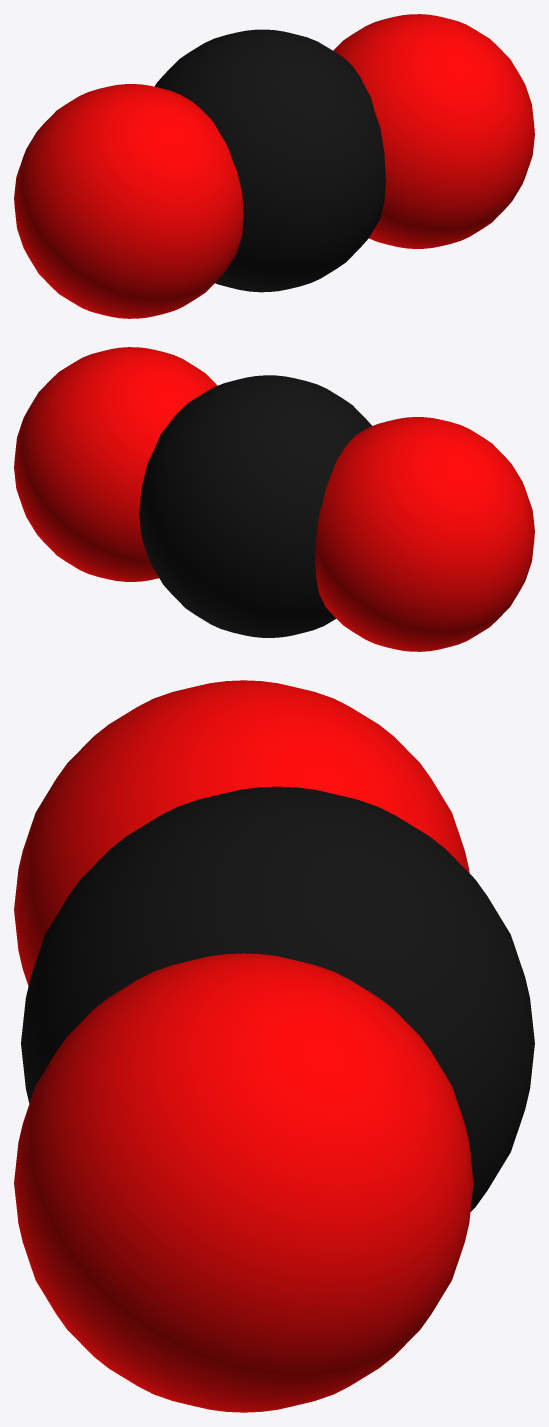
3 views of the same model, one above another, from view 1: azimuth 30°, elevation 25°; view 2: azimuth 150°, elevation 25°; view 3: azimuth 270°, elevation 25° (orthographic). The views are drawn at different scales.
Parts seen in each view (by area): view 1: Sphere004, Sphere003, Sphere005; view 2: Sphere003, Sphere004, Sphere005; view 3: Sphere005, Sphere003, Sphere004.
Boxes of the visible parts, x1=… form: Sphere004: x1=14, y1=84, x2=243, y2=318; Sphere003: x1=154, y1=29, x2=385, y2=292; Sphere005: x1=333, y1=14, x2=534, y2=248; Sphere003: x1=139, y1=375, x2=371, y2=637; Sphere004: x1=315, y1=417, x2=534, y2=651; Sphere005: x1=14, y1=347, x2=217, y2=581; Sphere005: x1=14, y1=953, x2=473, y2=1412; Sphere003: x1=21, y1=786, x2=534, y2=1211; Sphere004: x1=14, y1=680, x2=469, y2=985.
Size of the model in its own units: 28.79 by 13.39 by 13.57.
